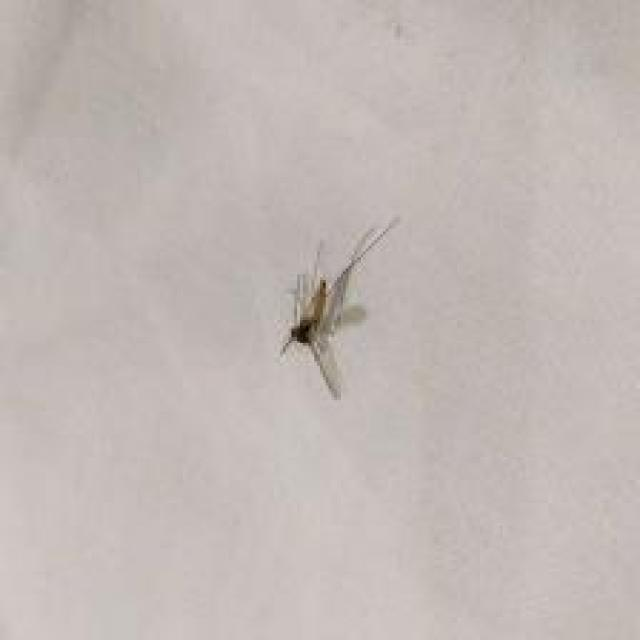Culex: (277, 214, 400, 400)
